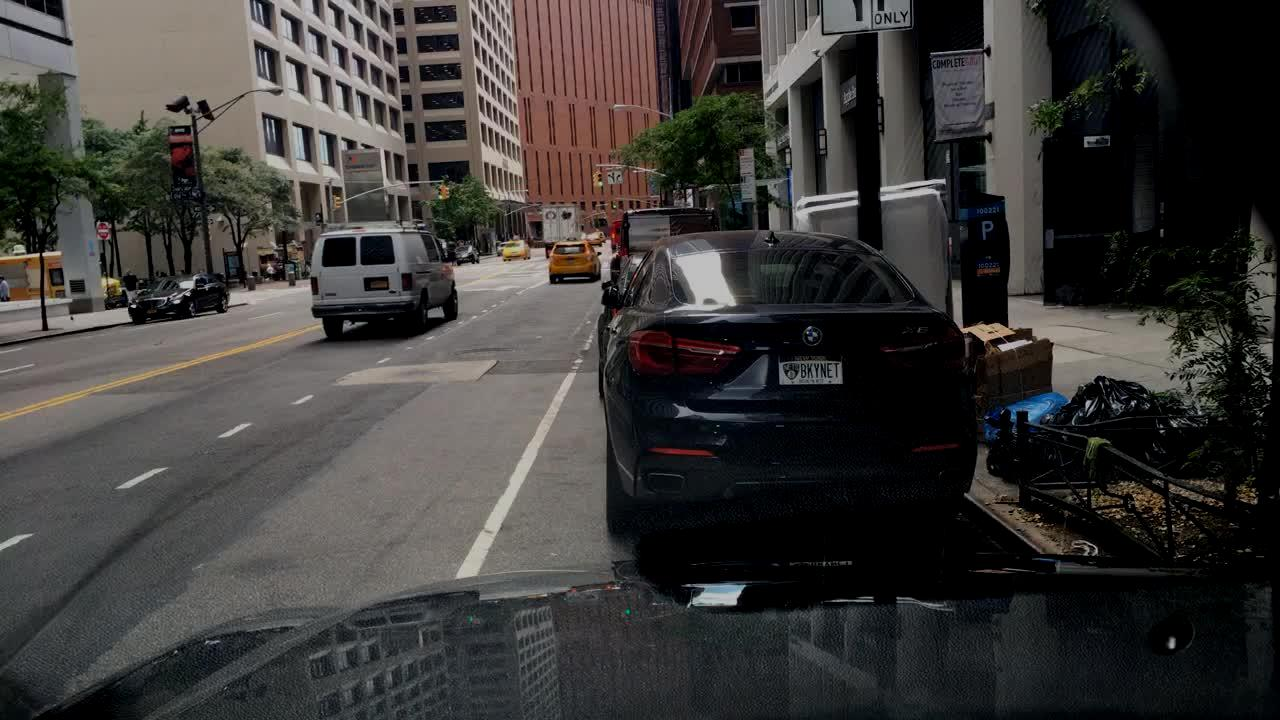bmw: (799, 323, 826, 351)
